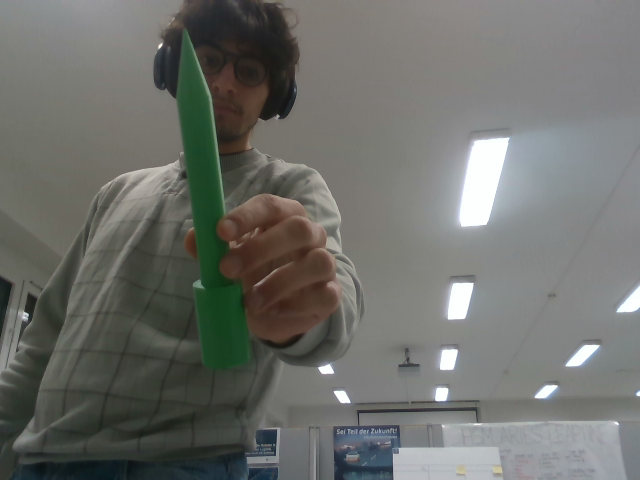Probe: (173, 23, 259, 372)
